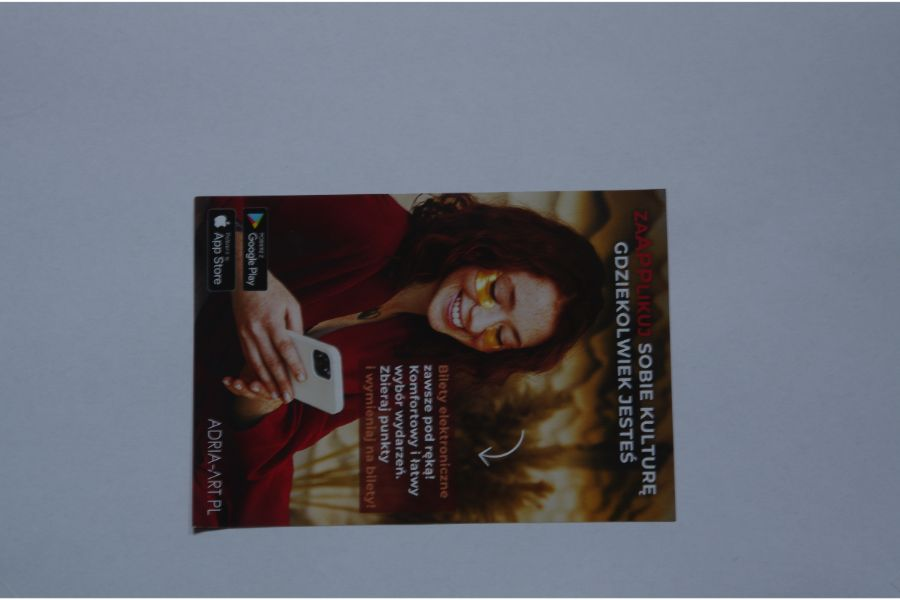album: (190, 188, 685, 532)
